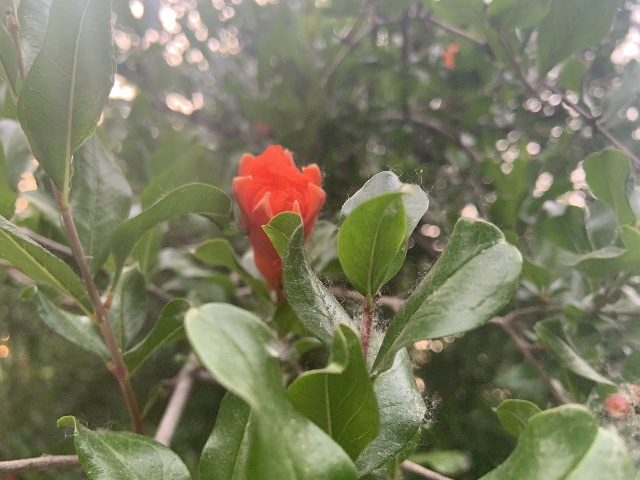flower: (231, 143, 325, 291)
